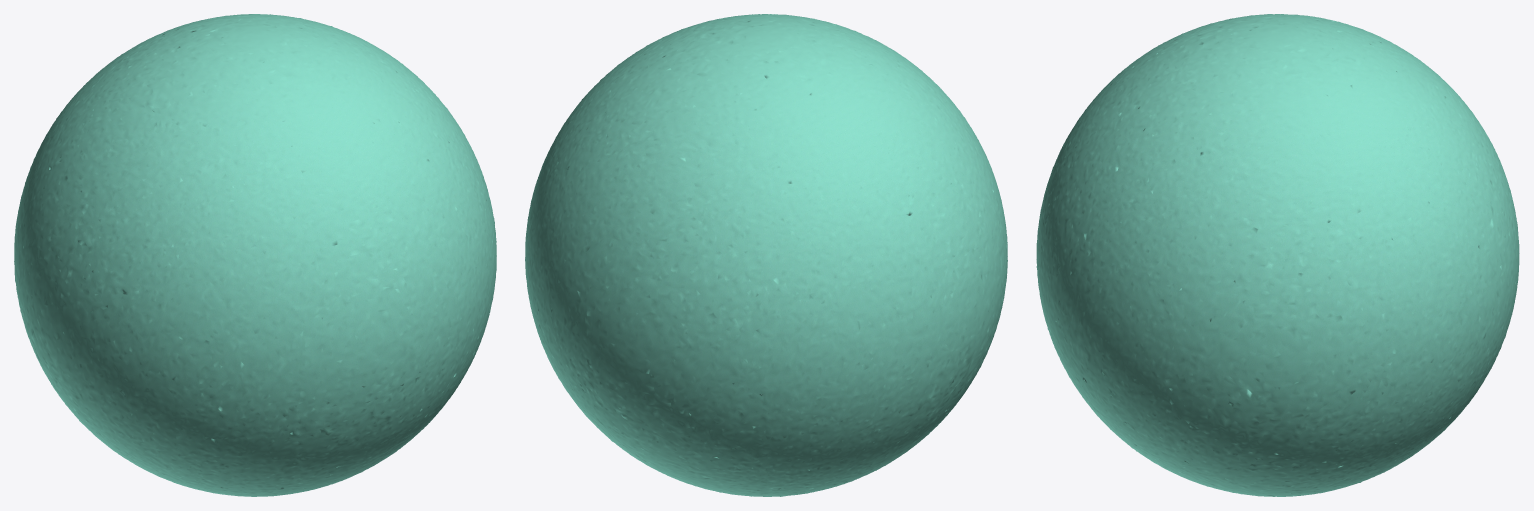
File: crepe_georgette_1k.gltf
3 renders of one model, left to right at view 1: azimuth 30°, elevation 25°; view 2: azimuth 150°, elevation 25°; view 3: azimuth 270°, elevation 25°, orthographic.
Parts seen in each view (by area): view 1: sphere_gltf; view 2: sphere_gltf; view 3: sphere_gltf.
Boxes of the visible parts, x1=… form: sphere_gltf: x1=14, y1=14, x2=496, y2=496; sphere_gltf: x1=525, y1=14, x2=1007, y2=496; sphere_gltf: x1=1036, y1=14, x2=1519, y2=496.
Bounding box in the file's own units: 0.2657 × 0.2655 × 0.2657.
1 material, 1 textured.
